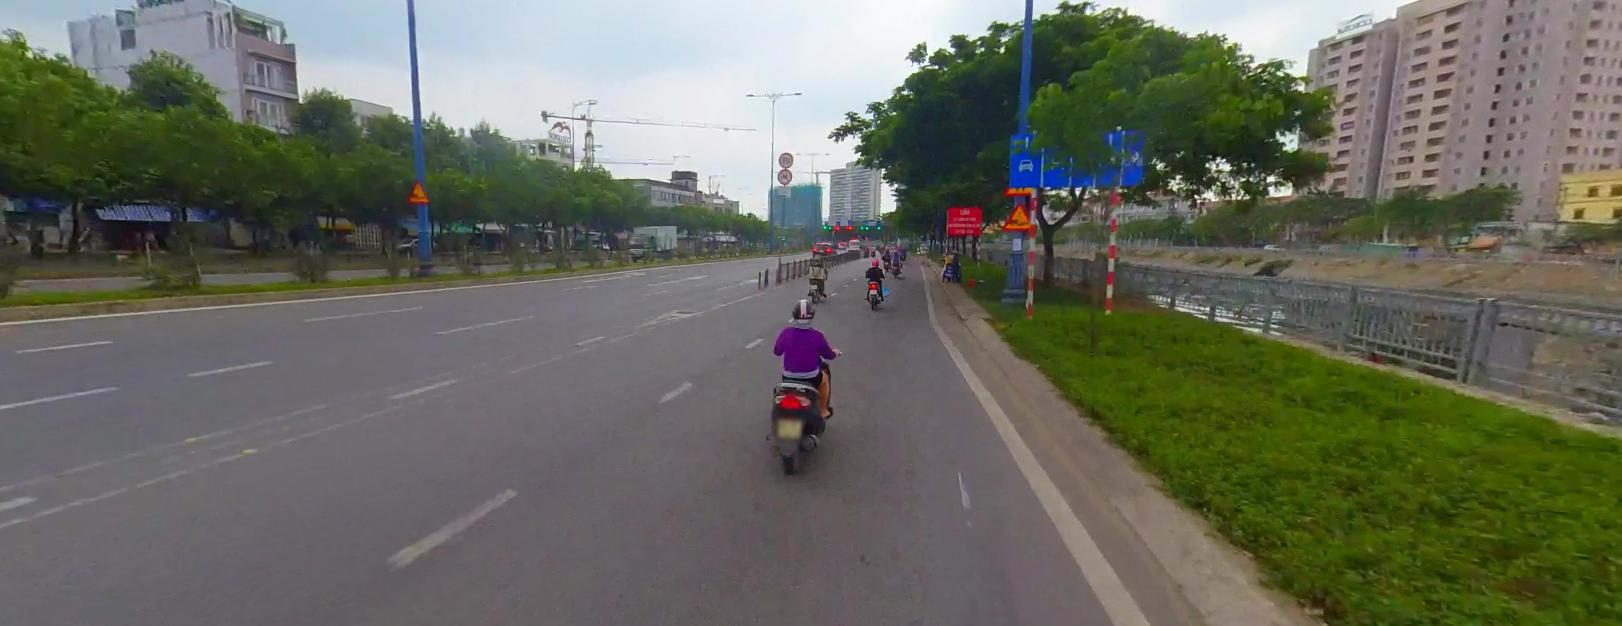Cam con lai: (776, 167, 792, 183)
Gioi han toc do: (777, 150, 793, 167)
Nguy hiem: (1002, 167, 1033, 193), (1001, 204, 1032, 230), (405, 177, 430, 202)
